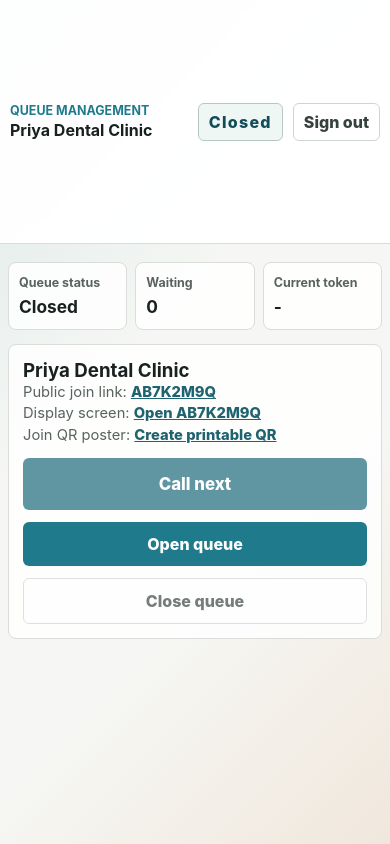
DashboardComponent › should open the queue from the dashboard controls and refresh today state
Click the button "Open queue". click: [195, 544]
box: [23, 522, 367, 566]
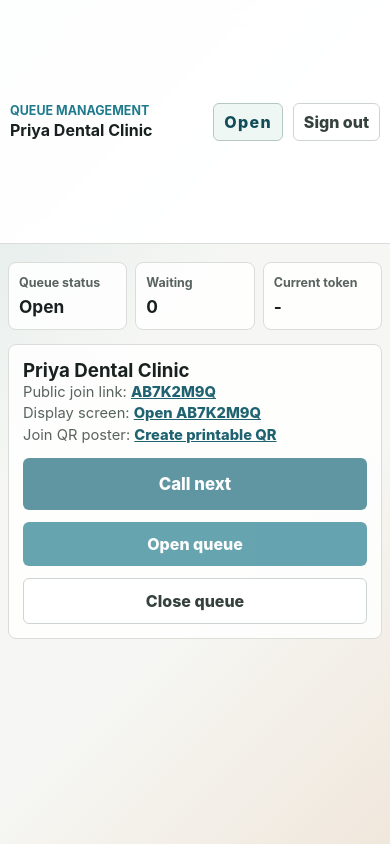
Result: the text with class "status-chip" reads "Open" at [224, 112, 272, 132]
